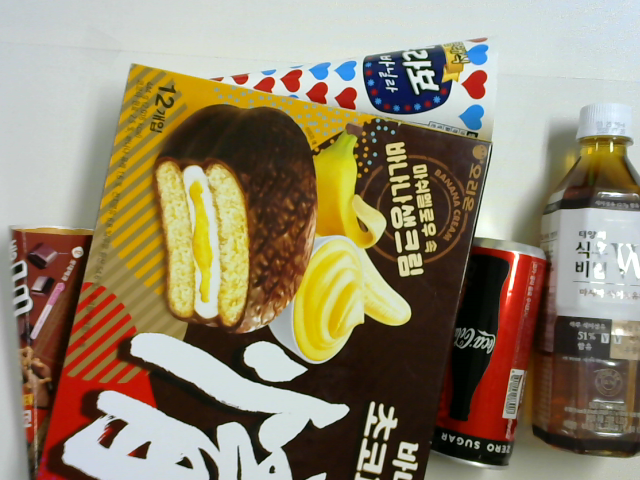Bravo_Cone_(Banila)_CVS: (189, 29, 500, 143)
Choco_Pie_Banana: (32, 64, 496, 480)
Coca_Cola_Zero_Can_250ml: (447, 234, 544, 475)
Post-meal_recipe_W_tea_500ml: (535, 102, 640, 456)
World_Cone_Choco: (6, 220, 102, 480)
